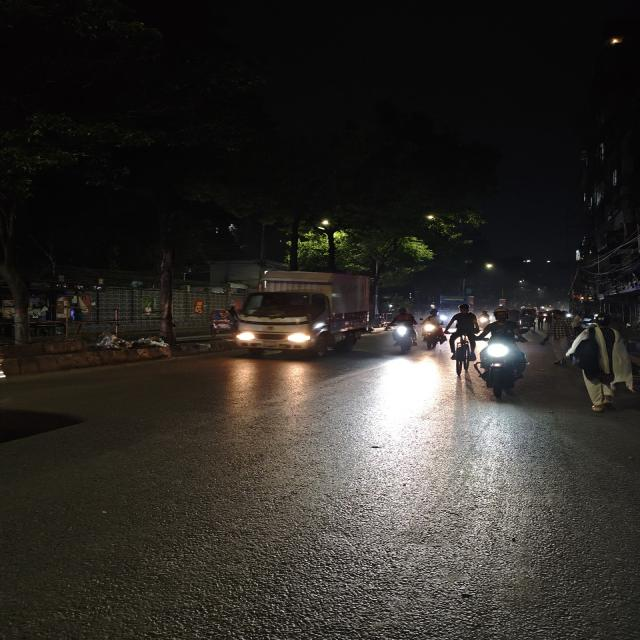bicycle: (448, 303, 479, 381)
motorcycle: (477, 307, 530, 406), (382, 305, 420, 355), (422, 306, 445, 354)
pedestrian: (575, 312, 634, 425), (541, 308, 575, 372)
rickshaw: (206, 304, 239, 337)
truck: (242, 265, 375, 367), (437, 291, 470, 313)
